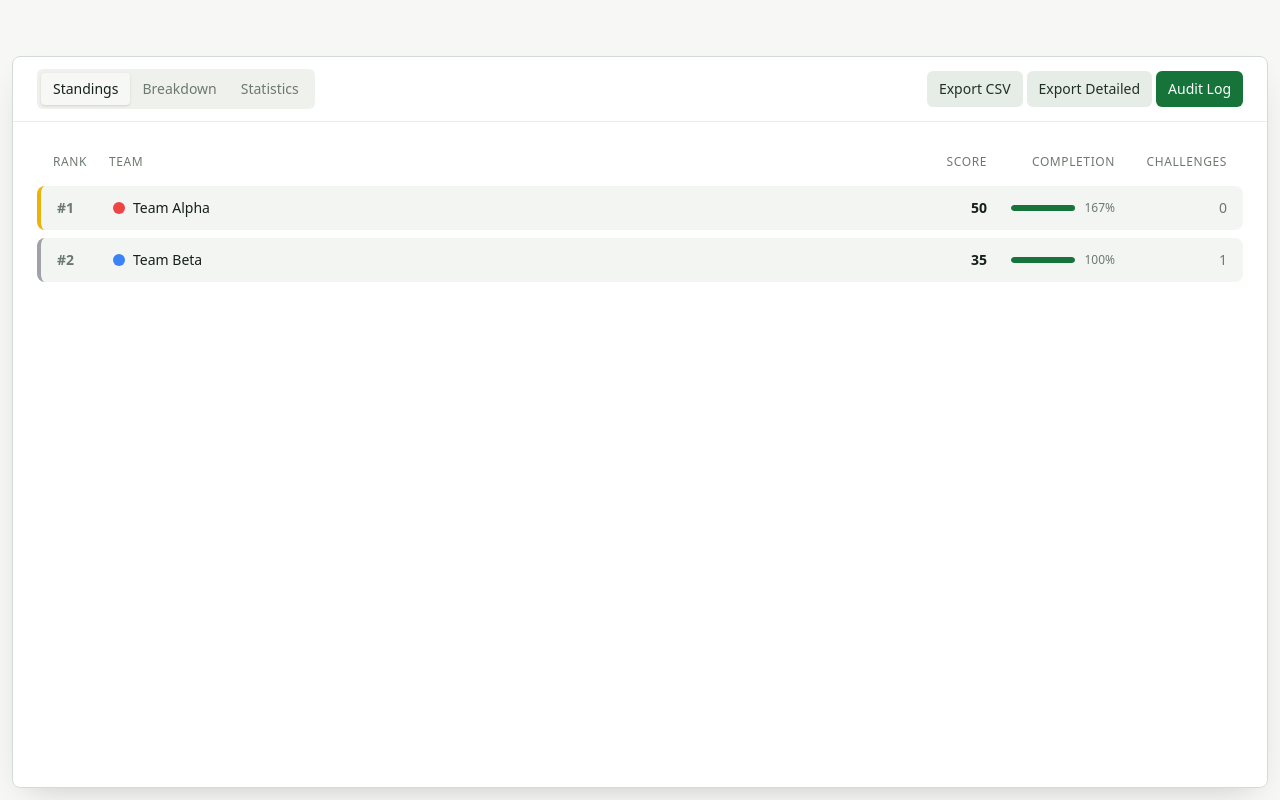
ResultsOverlay › switches to breakdown tab on click
What coordinates should you click on to do the following:
click the tab with test id "tab-breakdown"
I would click on:
 (180, 89)
Its box is [130,73,229,105].
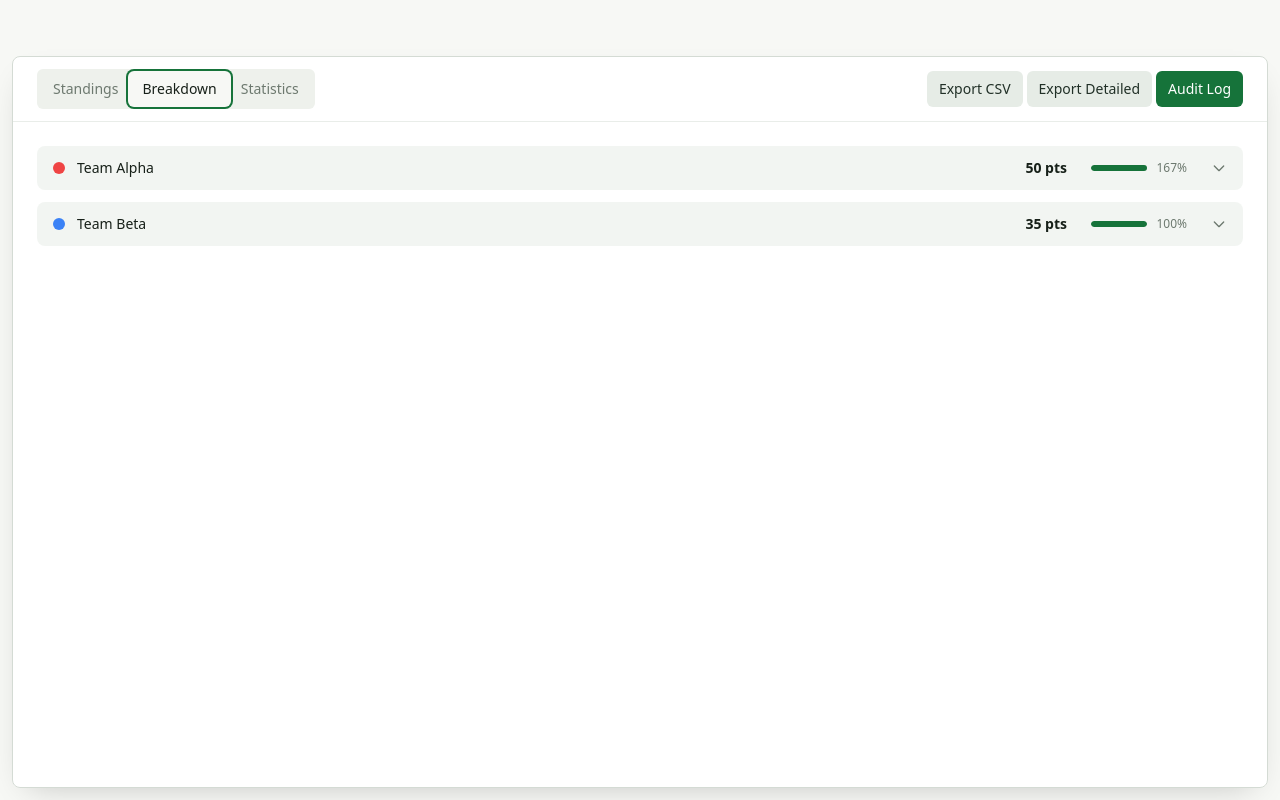
Check: the element with test id "team-breakdown" is shown, box [37,146,1243,246]
